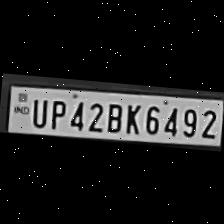2: (84, 98, 106, 132), (196, 104, 218, 138)
4: (64, 96, 88, 130), (158, 102, 181, 136)
6: (139, 100, 162, 134)
9: (178, 103, 199, 136)
B: (103, 99, 125, 134)
K: (120, 98, 142, 134)
P: (46, 95, 68, 129)
U: (28, 94, 48, 127)
